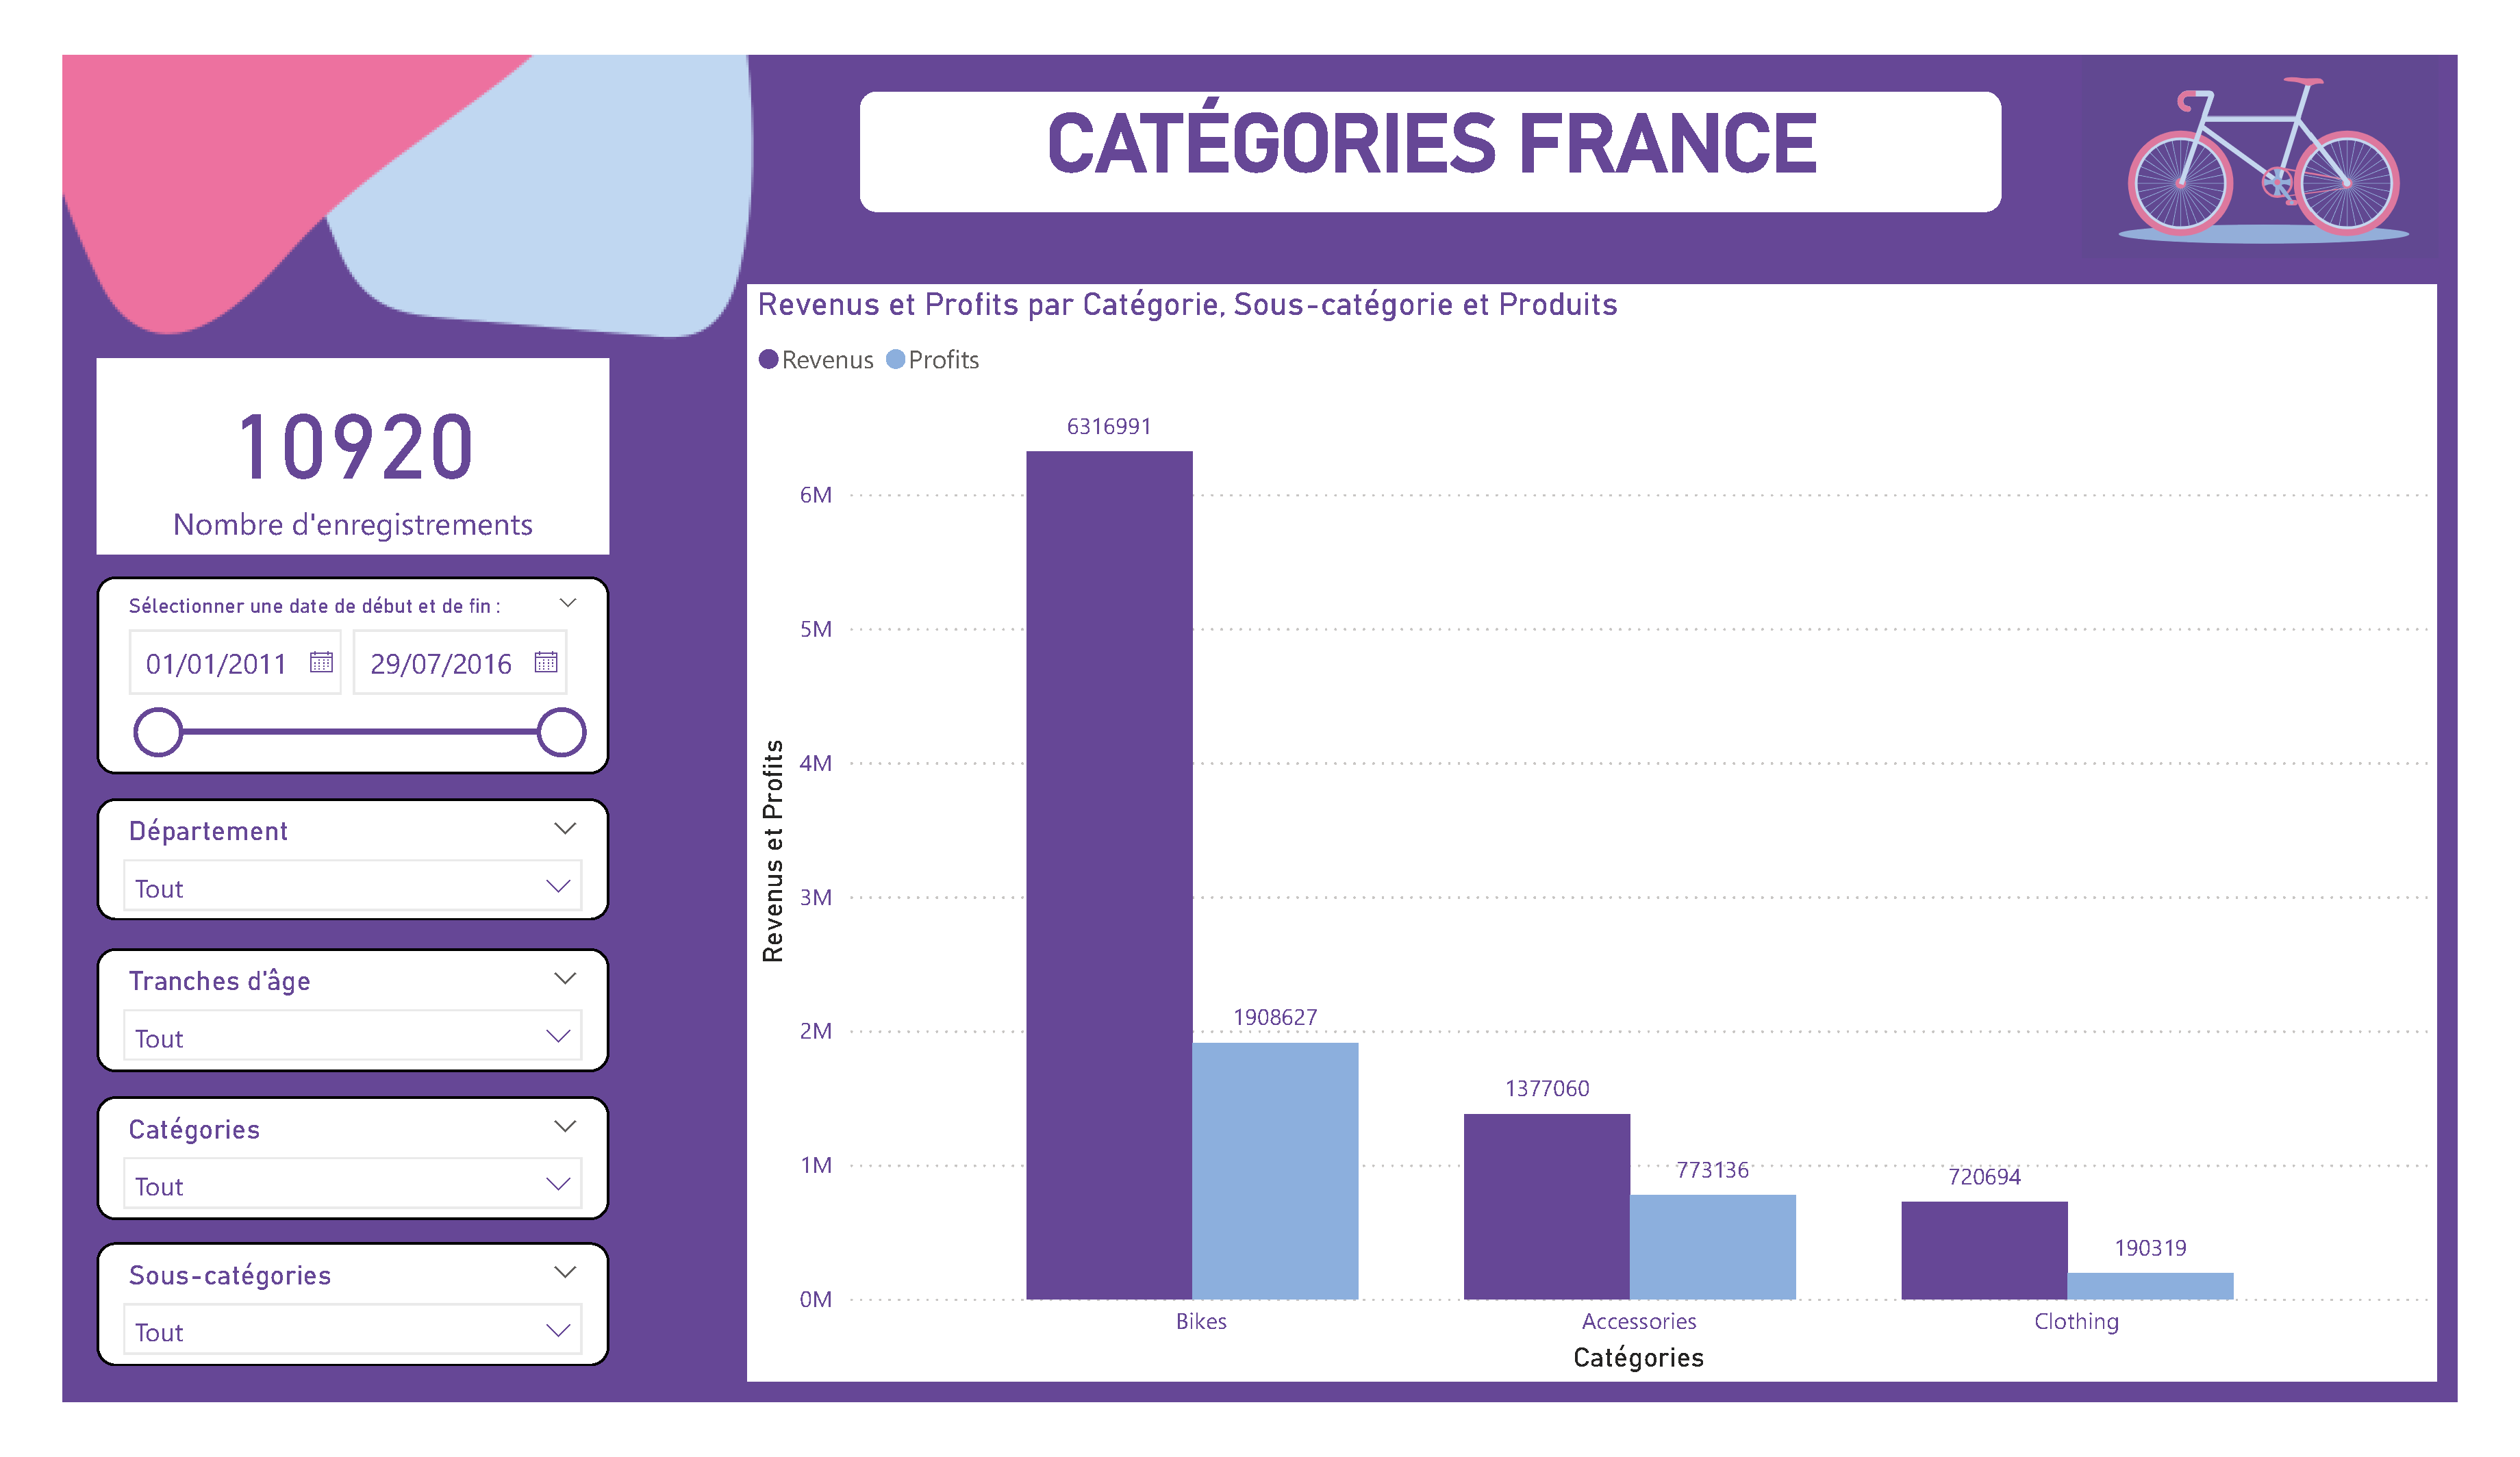

This screenshot's page, from the dashboard's own definition file:
{"tool":"powerbi","page":{"name":"Catégories, SC et Produits","canvas":[1280,720],"ordinal":4},"visuals":[{"type":"image","box":[0,0,1280.3,720.4],"z":0},{"type":"image","box":[1063.5,0,207.2,116.6],"z":1000},{"type":"textbox","title":"CATÉGORIES FRANCE","box":[428.1,23.3,603.8,65.9],"z":2000},{"type":"card","fields":{"Values":["CountNonNull(france_df.Date)"]},"box":[27.1,164.7,270.3,102.9],"z":3000},{"type":"slicer","fields":{"Values":["france_df.Date"]},"box":[27.1,279.9,270.3,104.3],"z":4000},{"type":"slicer","fields":{"Values":["france_df.State"]},"box":[27.1,396.6,270.3,64.5],"z":5000},{"type":"slicer","fields":{"Values":["france_df.Age_Group"]},"box":[27.1,476.2,270.3,64.5],"z":6000},{"type":"slicer","fields":{"Values":["france_df.Product_Category"]},"box":[27.1,554.4,270.3,64.5],"z":7000},{"type":"slicer","fields":{"Values":["france_df.Sub_Category"]},"box":[27.1,631.2,270.3,64.5],"z":8000},{"type":"clusteredColumnChart","title":"Revenus et Profits par Catégorie, Sous-catégorie et Produits","fields":{"Category":["france_df.Product_Category","france_df.Sub_Category","france_df.Product"],"Y":["Sum(france_df.Revenue)","Sum(france_df.Profit)"]},"box":[370.5,126.2,889.2,577.7],"z":12000}]}

Visuals, with their boxes in screenshot pixels (x1, y1, x2, y2), scaled from the page's 1280x720 canvas onto the 2520x1457 screenshot:
image: rect(0, 0, 2519, 1456)
image: rect(2094, 0, 2502, 236)
"CATÉGORIES FRANCE" textbox: rect(843, 47, 2032, 181)
card - CountNonNull(france_df.Date): rect(53, 333, 585, 542)
slicer - france_df.Date: rect(53, 566, 585, 778)
slicer - france_df.State: rect(53, 802, 585, 933)
slicer - france_df.Age_Group: rect(53, 963, 585, 1094)
slicer - france_df.Product_Category: rect(53, 1122, 585, 1252)
slicer - france_df.Sub_Category: rect(53, 1278, 585, 1408)
"Revenus et Profits par Catégorie, Sous-catégorie et Produits" clusteredColumnChart: rect(729, 255, 2480, 1424)
